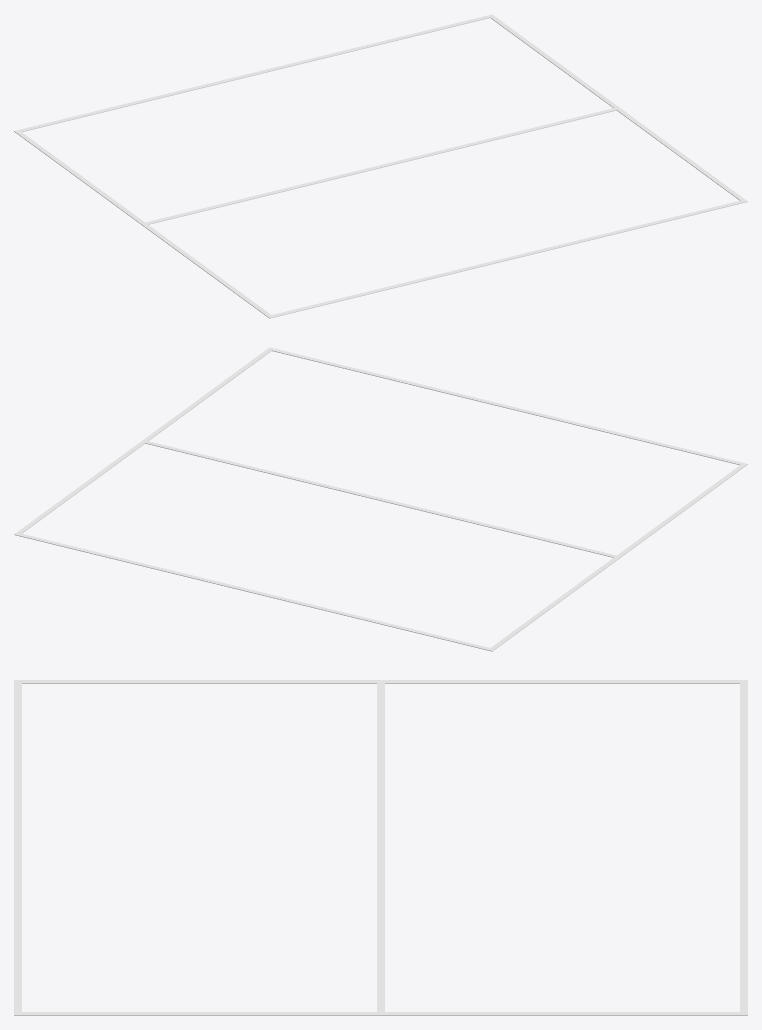
The picture shows the model from 3 angles, top to bottom: view 1: azimuth 30°, elevation 25°; view 2: azimuth 150°, elevation 25°; view 3: azimuth 270°, elevation 25°; orthographic projection. The views are drawn at different scales.
Visible parts, largest first — view 1: Court line.002, Court line.001, Court line, Court outer line, Court outer line.001; view 2: Court line.002, Court line, Court line.001, Court outer line, Court outer line.001; view 3: Court outer line, Court outer line.001, Court line.002, Court line.001, Court line.
Part boxes in pixels (left/top/right/bottom): Court line.002: left=14, top=14, right=494, bottom=132; Court line.001: left=141, top=107, right=620, bottom=225; Court line: left=267, top=200, right=747, bottom=318; Court outer line: left=15, top=132, right=272, bottom=316; Court outer line.001: left=490, top=16, right=746, bottom=201; Court line.002: left=14, top=532, right=494, bottom=651; Court line: left=269, top=347, right=747, bottom=465; Court line.001: left=141, top=440, right=620, bottom=557; Court outer line: left=491, top=464, right=746, bottom=649; Court outer line.001: left=17, top=348, right=272, bottom=533; Court outer line: left=18, top=680, right=739, bottom=683; Court outer line.001: left=18, top=1012, right=740, bottom=1015; Court line.002: left=740, top=680, right=747, bottom=1015; Court line.001: left=377, top=680, right=384, bottom=1015; Court line: left=14, top=680, right=21, bottom=1015.
Bounding box in the file's own units: 404 × 0.4001 × 374.
